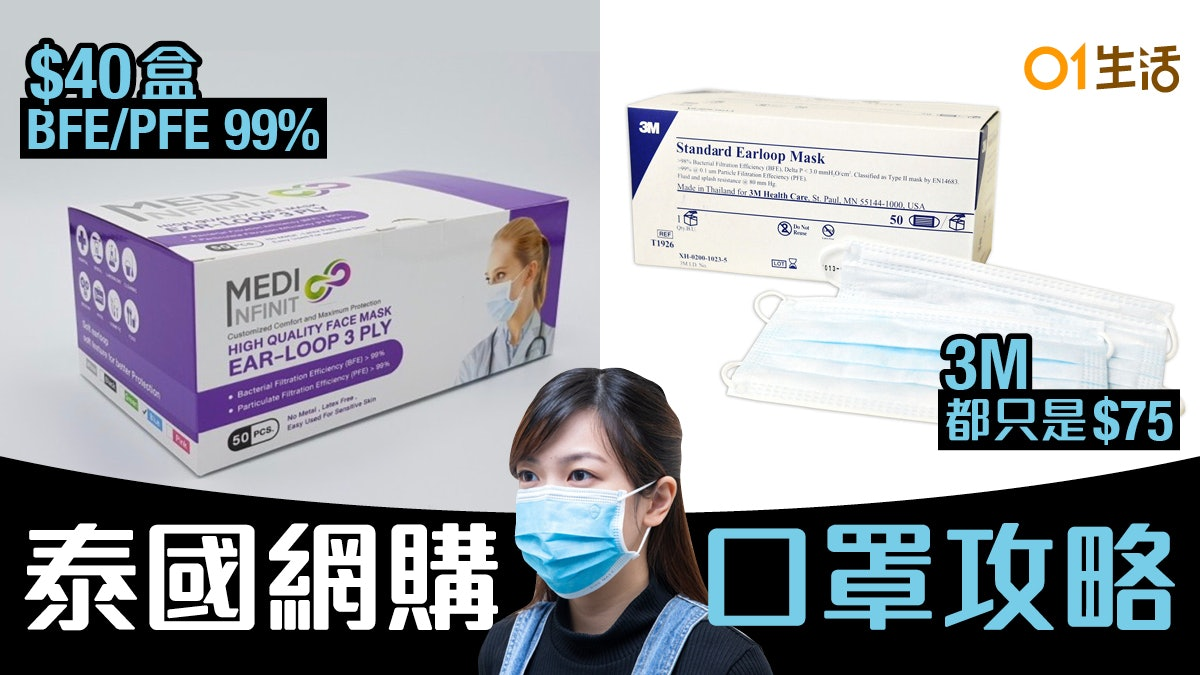Mask: (509, 418, 658, 598), (479, 231, 543, 327)
